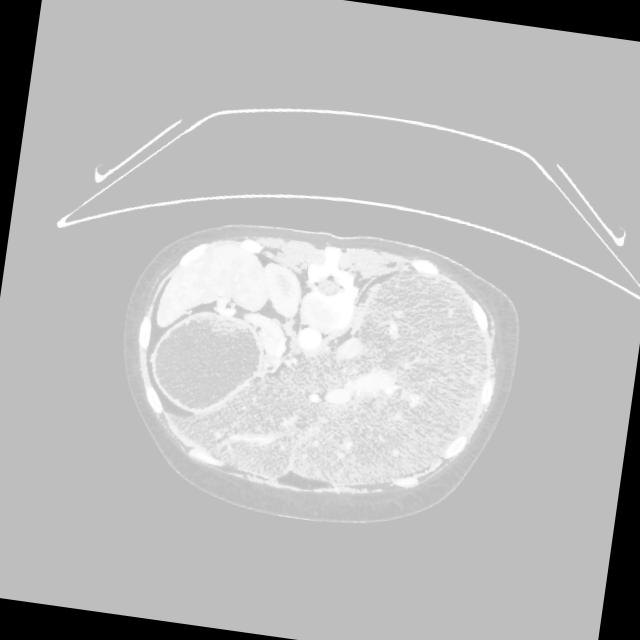NORMAL: (66, 206, 583, 570)
